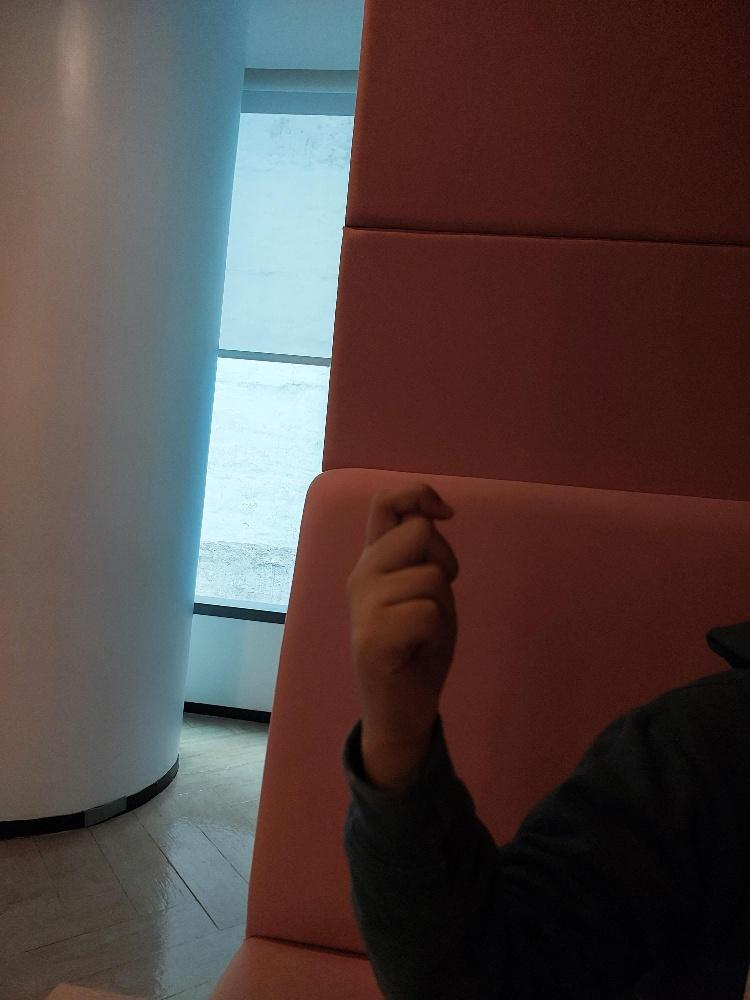t: (340, 467, 471, 750)
